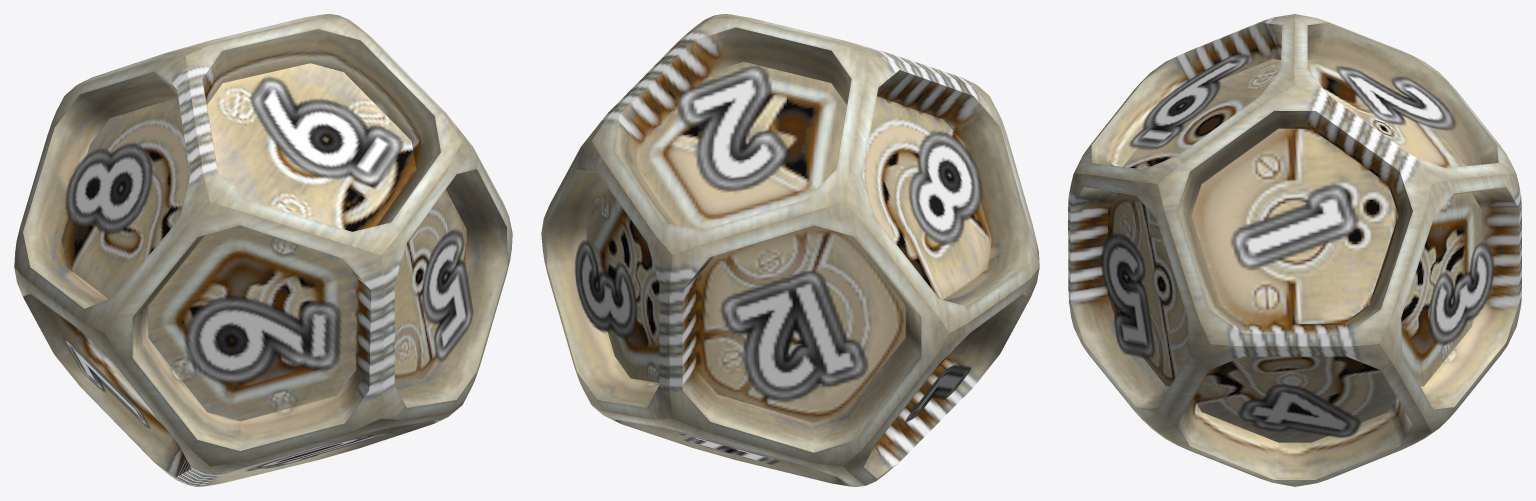
3 renders of one model, left to right at view 1: azimuth 30°, elevation 25°; view 2: azimuth 150°, elevation 25°; view 3: azimuth 270°, elevation 25°, orthographic. The views are drawn at different scales.
Parts seen in each view (by area): view 1: D12, D12_Numbers; view 2: D12, D12_Numbers; view 3: D12, D12_Numbers.
Part boxes in pixels (x1,y1,x2,y2): D12: (14, 14, 512, 486); D12_Numbers: (63, 77, 473, 470); D12: (541, 14, 1039, 486); D12_Numbers: (575, 66, 982, 464); D12: (1068, 14, 1521, 486); D12_Numbers: (1101, 54, 1494, 437).
Bounding box in the file's own units: 1.65 × 1.65 × 1.65.
2 materials, 2 textured.
